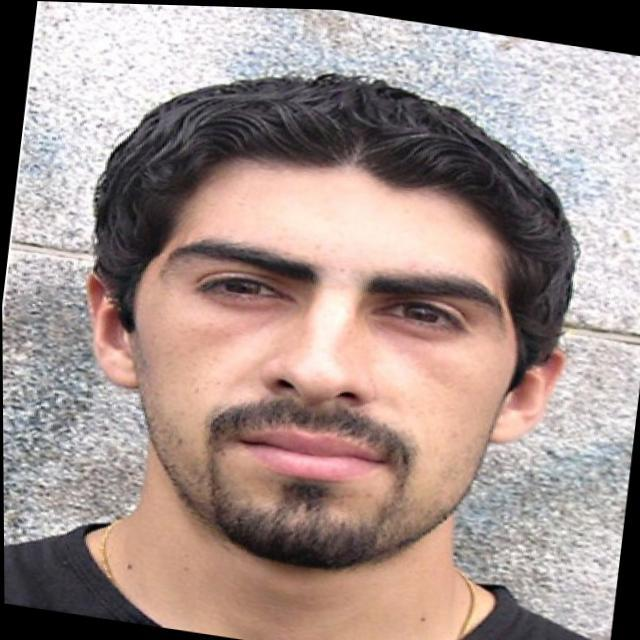Nonhelmet: (75, 61, 589, 574)
